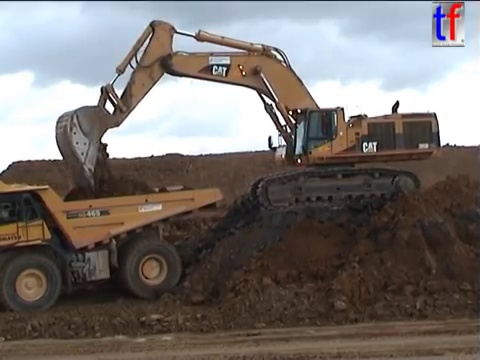excavator: (52, 17, 443, 216)
truck: (1, 177, 225, 315)
